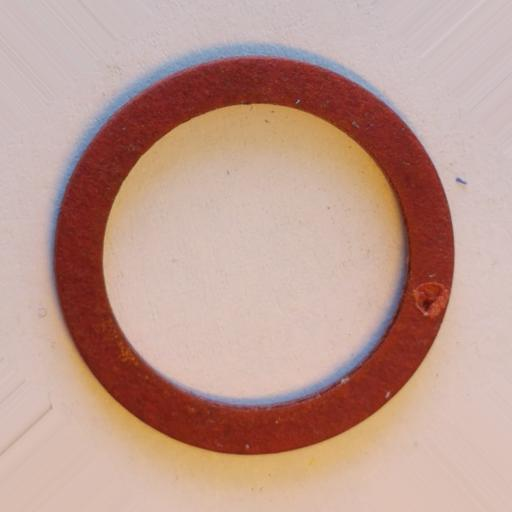defect: (412, 281, 449, 317)
